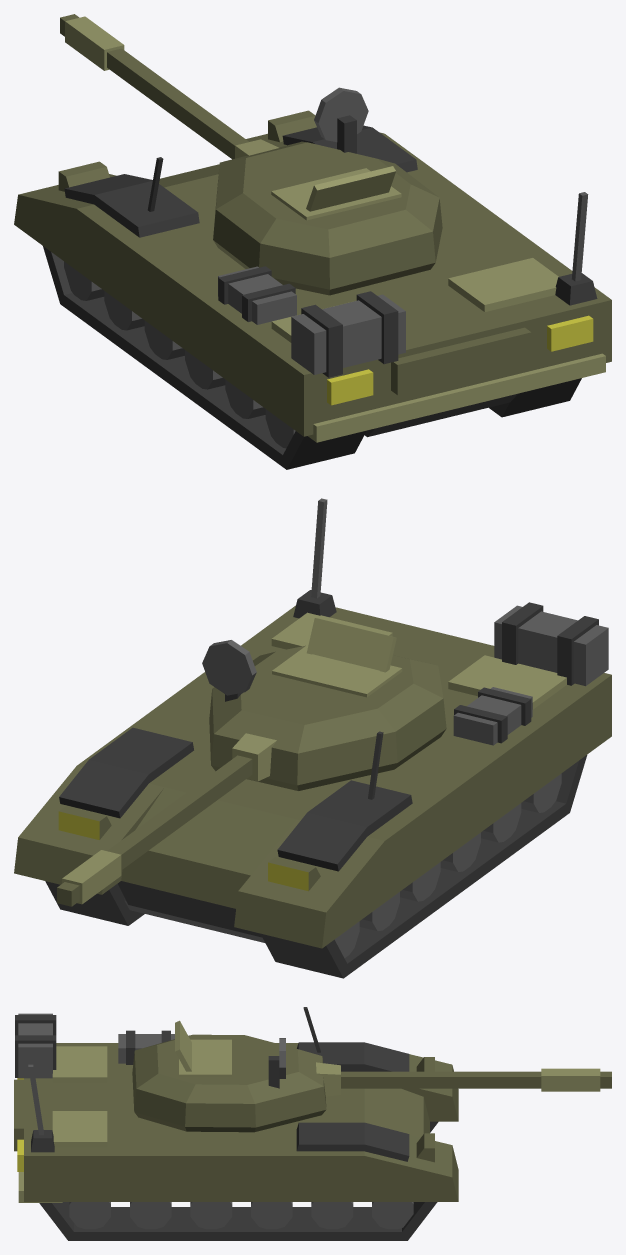
Rendered from tank_boxer.glb.
3 views of the same model, one above another, from view 1: azimuth 30°, elevation 25°; view 2: azimuth 150°, elevation 25°; view 3: azimuth 270°, elevation 25° (orthographic). The views are drawn at different scales.
Visible parts, largest first — view 1: TankBody, TankTurret; view 2: TankBody, TankTurret; view 3: TankBody, TankTurret.
Boxes of the visible parts, x1,y1,x2,y2 form: TankBody: (14, 110, 611, 469); TankTurret: (60, 14, 438, 267); TankBody: (14, 498, 611, 978); TankTurret: (57, 640, 446, 906); TankBody: (14, 1013, 458, 1240); TankTurret: (157, 1007, 611, 1147).
Bounding box in the file's own units: 2.4 × 1.7 × 5.38.
